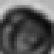correct: (0, 4, 54, 54)
